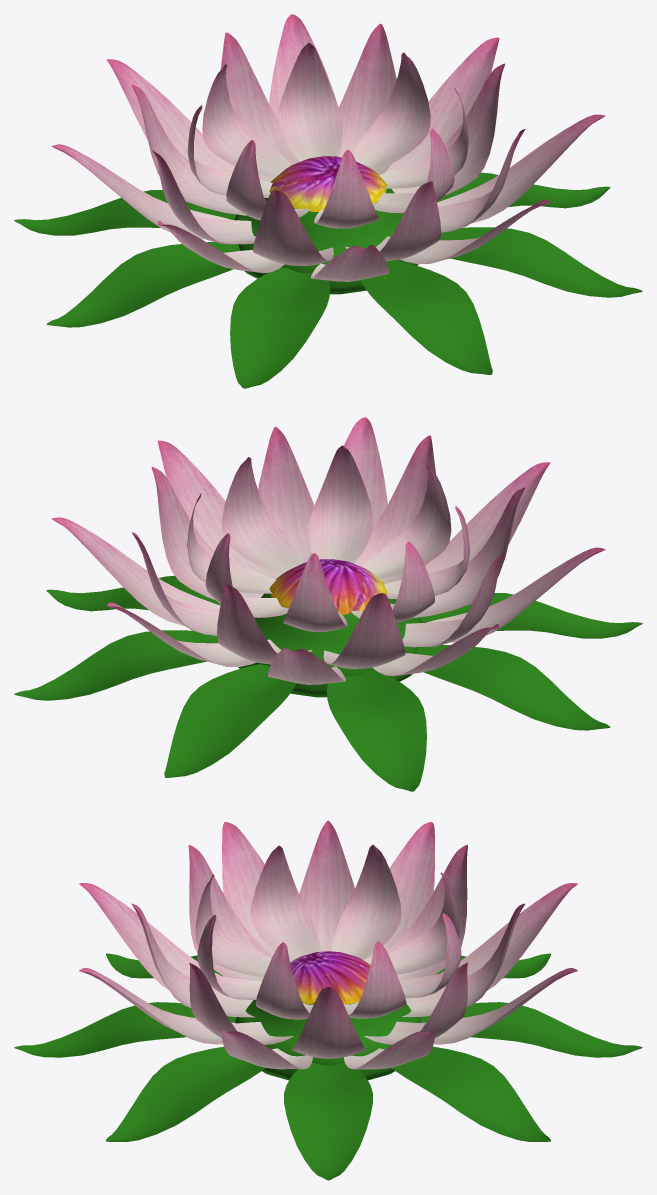
File: lotus_water_lily.glb
3 views of the same model, one above another, from view 1: azimuth 30°, elevation 25°; view 2: azimuth 150°, elevation 25°; view 3: azimuth 270°, elevation 25° (orthographic). The views are drawn at different scales.
Visible parts, largest first — view 1: pistil_0; view 2: pistil_0; view 3: pistil_0.
Boxes of the visible parts, x1=… form: pistil_0: x1=14, y1=14, x2=642, y2=388; pistil_0: x1=14, y1=417, x2=642, y2=791; pistil_0: x1=14, y1=820, x2=642, y2=1180.
Size of the model in its own units: 5.88 by 1.65 by 5.88.
1 material, 1 textured.
